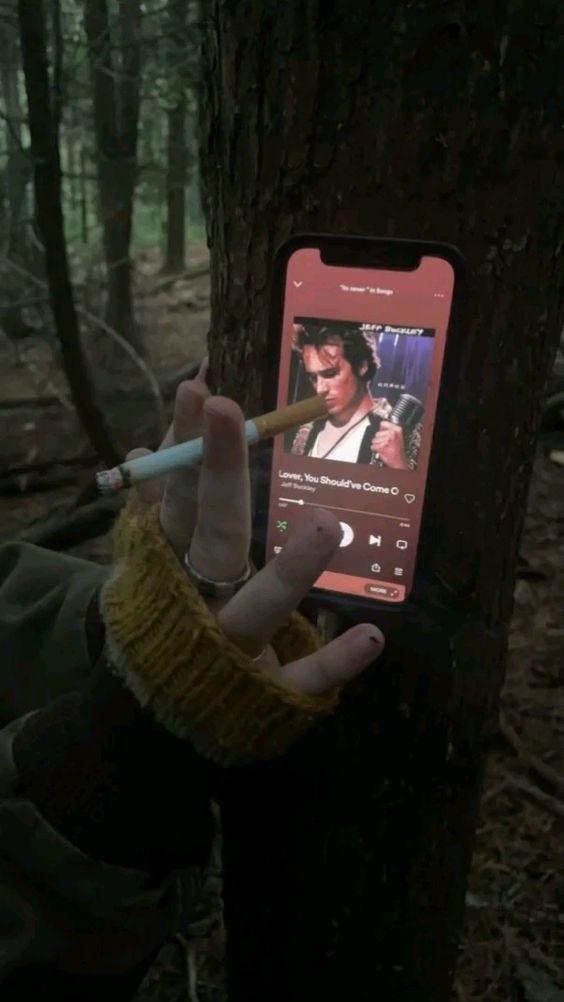cigarette: (96, 394, 329, 496)
